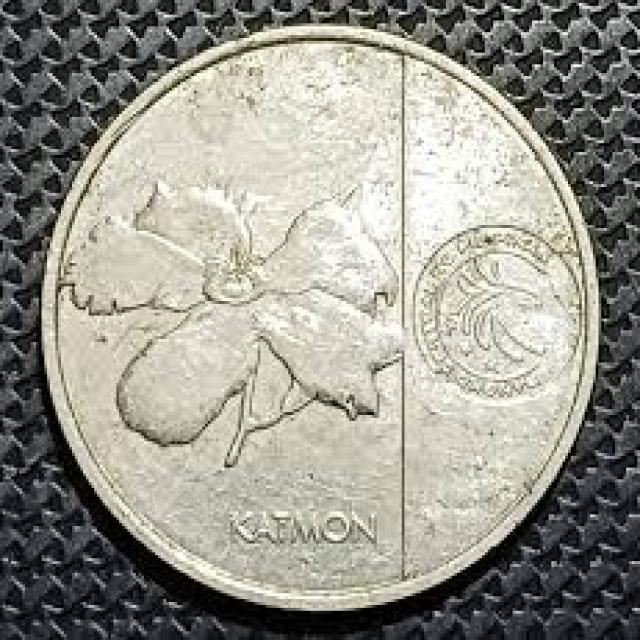25 cents: (35, 18, 608, 622)
